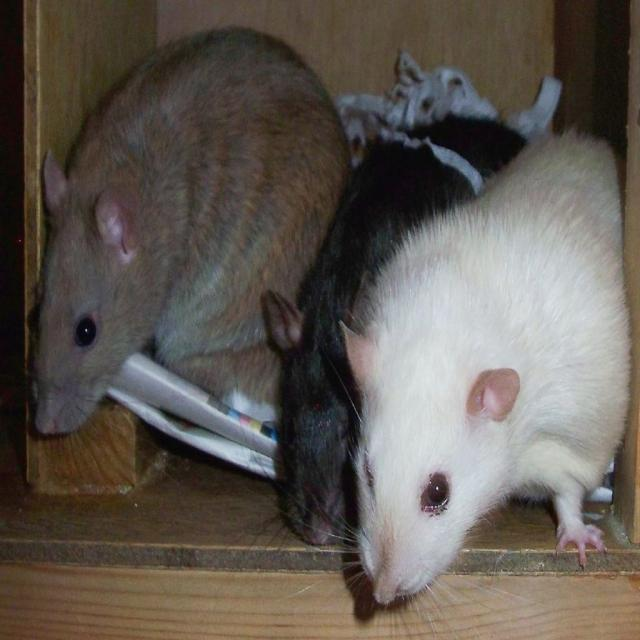rat: (32, 26, 352, 484), (336, 121, 634, 612), (261, 116, 532, 550)
